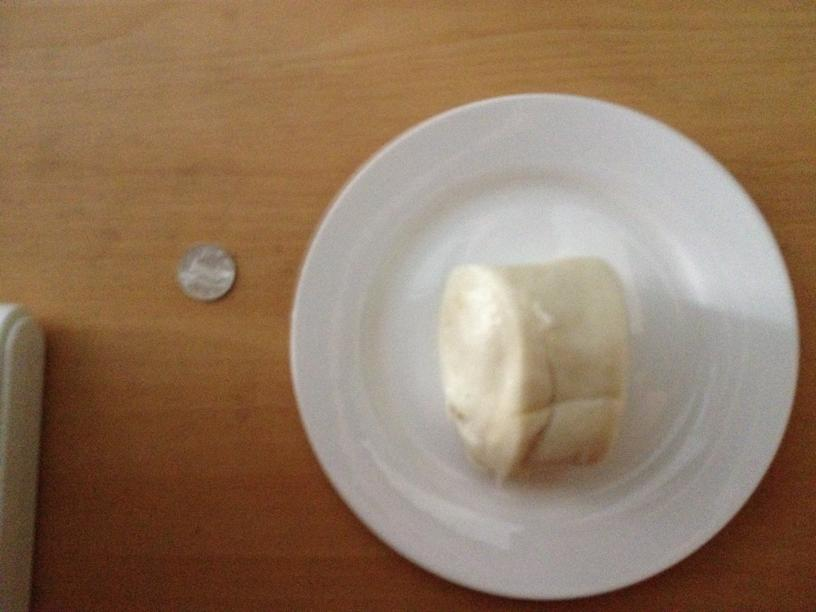bun: (433, 259, 633, 475)
coin: (176, 240, 238, 304)
